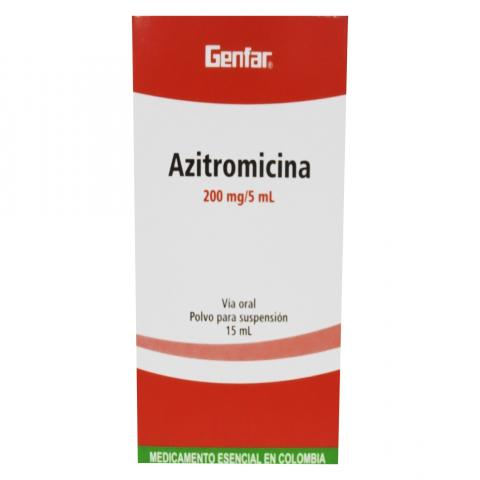Genfar: (131, 15, 338, 465)
